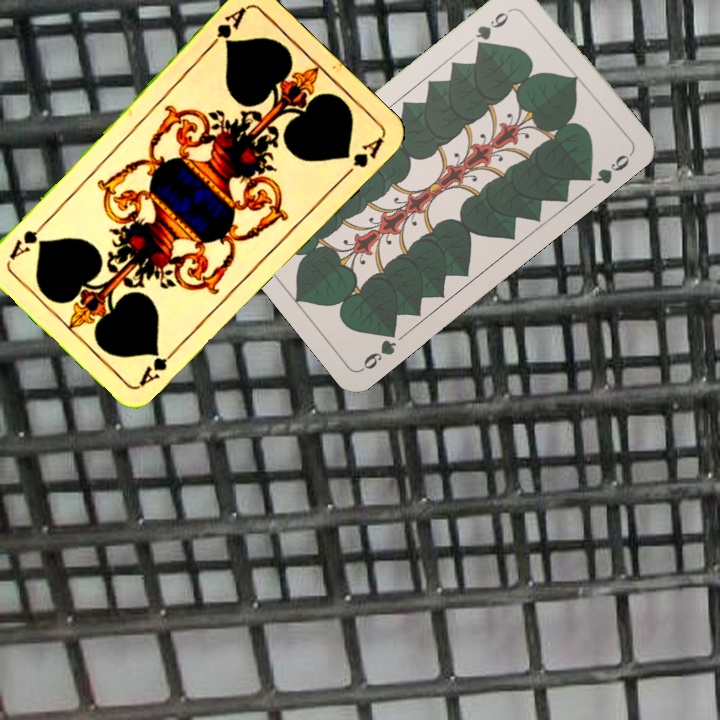G9: (471, 4, 517, 52), (358, 322, 400, 373)
GA: (135, 342, 182, 389), (204, 3, 249, 52)
